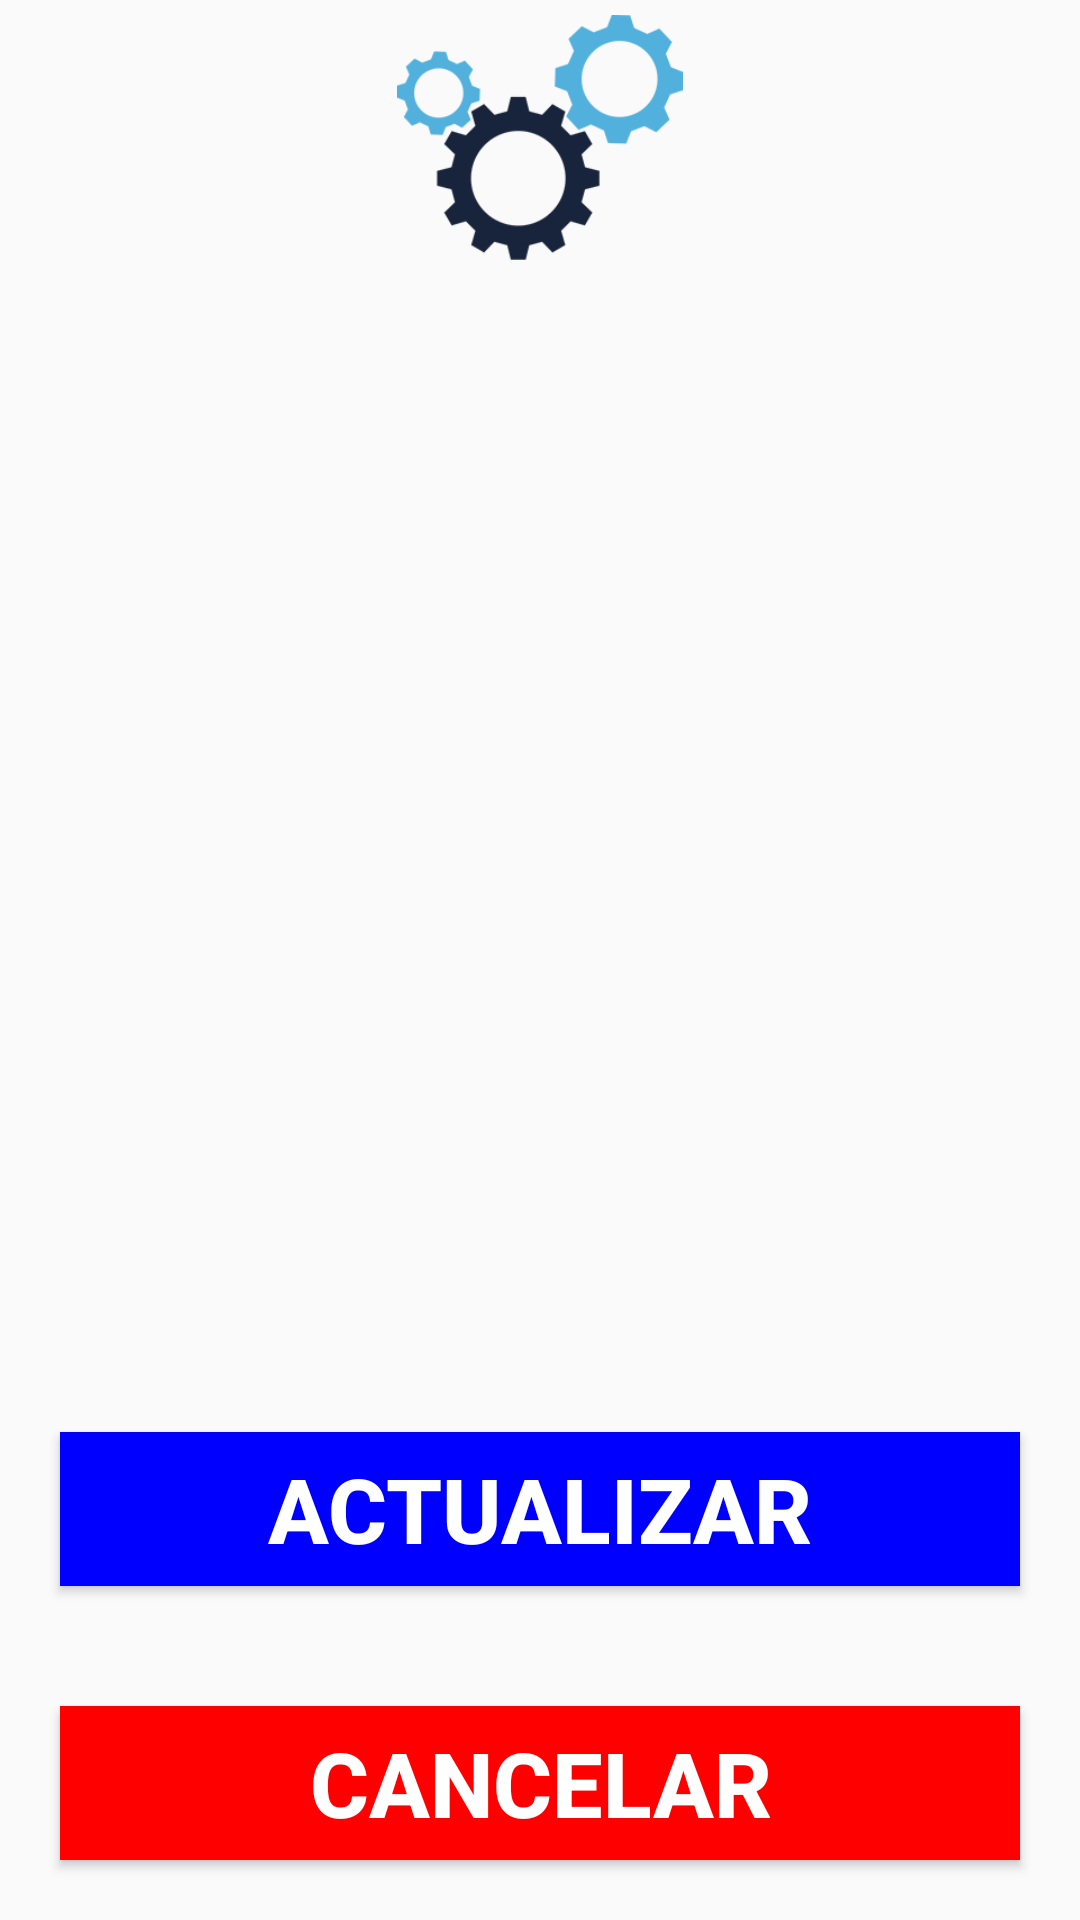

Named icons in this screenshot (1080 x 1920) and their centers, (x,y):
cargando: (540,137)
